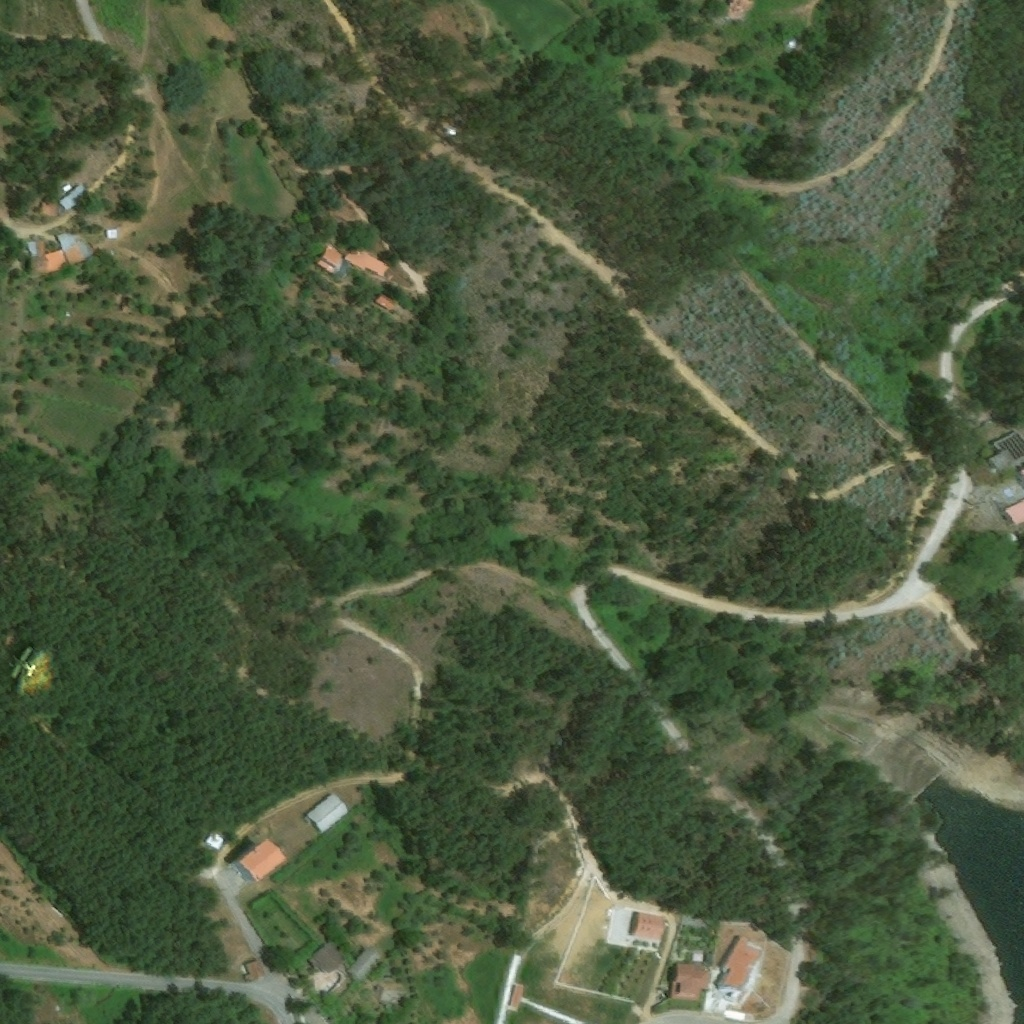0 no-damage: (22, 229, 95, 276), (716, 935, 763, 990), (314, 242, 373, 279), (238, 839, 288, 882), (304, 791, 349, 834), (668, 963, 711, 1001), (987, 428, 1023, 472), (375, 290, 415, 322), (311, 940, 344, 974), (347, 947, 380, 979), (58, 181, 90, 211), (1001, 498, 1023, 527), (375, 984, 406, 1004), (244, 959, 267, 983), (726, 0, 755, 18), (204, 831, 225, 851), (35, 199, 58, 216), (508, 985, 522, 1010), (327, 350, 344, 365), (106, 227, 119, 239)
